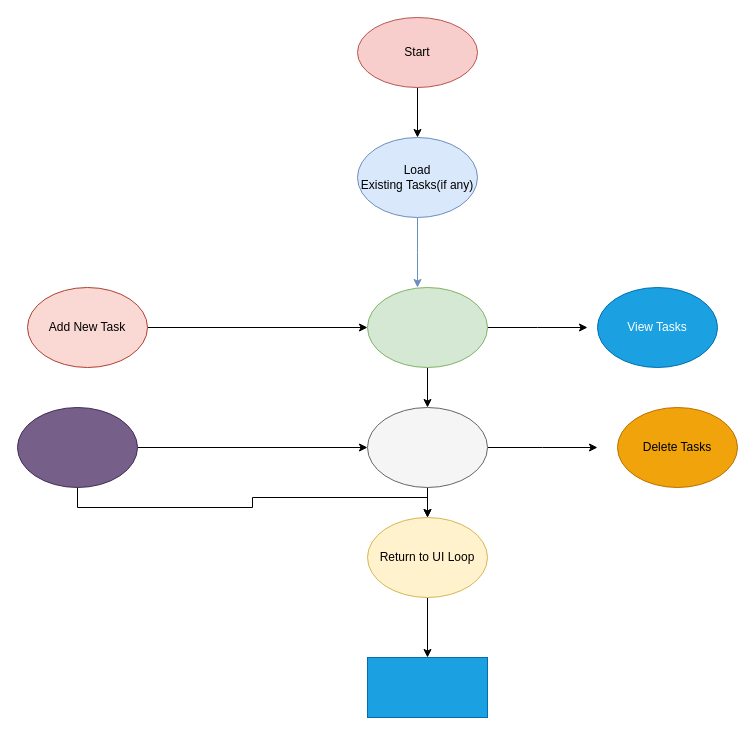
Some shapes in this 755 by 735 pixel diagram are drawn without their labels. The centre of each missing label's shape, as x and y in pixels:
Optional Actions: the point at 427,447
Show User Interface: the point at 427,327
Update Tasks List: the point at 77,447
